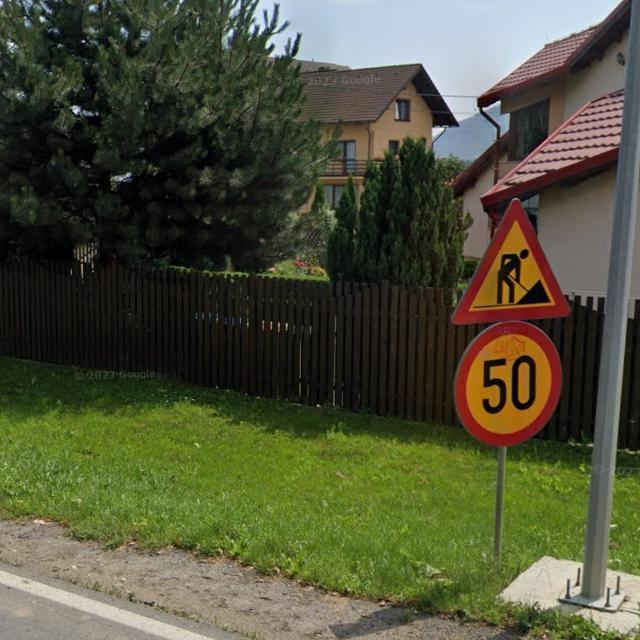forb_speed_over_50: (451, 321, 563, 450)
